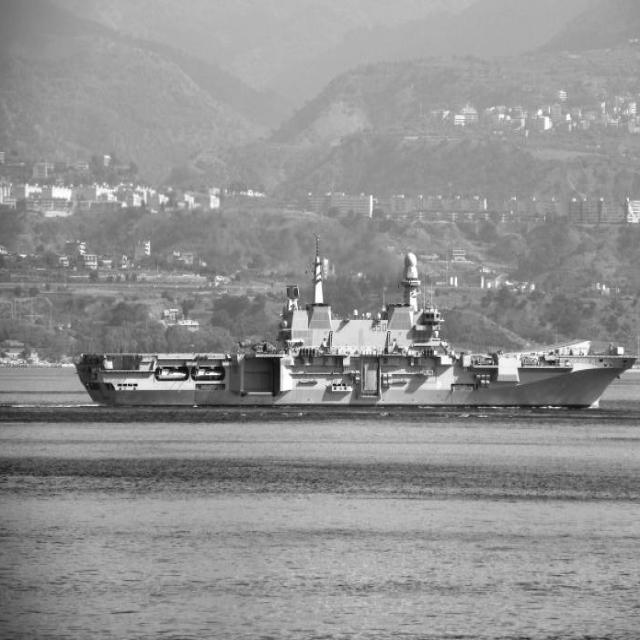Portanaves: (76, 244, 640, 422)
